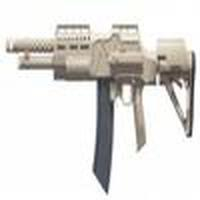gun: (3, 24, 200, 154)
